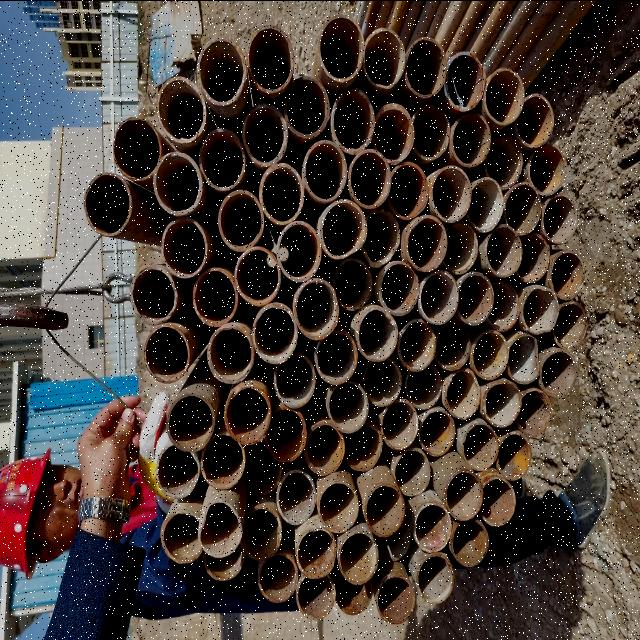pipe: (155, 75, 207, 147), (110, 114, 162, 184), (245, 24, 295, 96), (195, 37, 246, 107), (239, 100, 291, 168), (273, 218, 323, 288), (165, 388, 218, 454), (80, 172, 134, 236), (149, 152, 203, 216), (157, 216, 211, 280), (189, 261, 239, 329), (282, 73, 332, 141), (257, 160, 305, 230), (216, 188, 266, 255), (196, 126, 246, 192), (249, 303, 299, 367), (232, 244, 282, 308), (291, 276, 339, 342), (318, 14, 362, 86), (328, 88, 376, 154), (126, 264, 178, 324), (222, 382, 272, 444), (302, 139, 348, 205), (143, 326, 193, 386), (362, 26, 406, 94), (318, 198, 367, 258), (152, 444, 202, 502), (206, 323, 254, 383), (270, 352, 318, 412), (370, 100, 415, 164), (357, 208, 403, 270), (157, 511, 207, 568), (442, 51, 486, 115), (403, 36, 447, 100), (347, 148, 391, 212), (198, 498, 244, 559), (199, 432, 245, 492), (384, 160, 430, 220), (264, 404, 308, 466), (273, 466, 317, 528), (302, 419, 346, 479), (512, 91, 556, 151), (239, 504, 283, 562), (316, 477, 360, 535), (429, 165, 473, 223), (332, 258, 376, 316), (483, 66, 525, 126), (405, 213, 447, 273), (409, 102, 451, 162), (356, 307, 399, 365), (362, 484, 406, 540), (336, 530, 378, 588), (418, 268, 460, 326), (479, 378, 524, 432), (256, 552, 300, 607), (242, 440, 282, 500), (378, 258, 418, 318), (484, 132, 524, 192), (464, 174, 504, 234), (343, 416, 384, 474), (452, 270, 493, 328), (327, 379, 369, 434), (394, 316, 436, 371), (451, 112, 492, 168), (296, 528, 338, 582), (375, 572, 417, 626), (414, 552, 456, 606), (504, 180, 544, 236), (484, 222, 524, 278), (538, 348, 580, 401), (468, 328, 509, 382), (380, 397, 420, 452), (443, 468, 485, 520), (512, 386, 552, 440), (520, 284, 560, 338), (443, 368, 483, 422), (527, 143, 567, 197), (439, 221, 479, 275), (391, 446, 432, 498), (548, 248, 586, 304), (477, 477, 517, 529), (451, 516, 489, 570), (485, 280, 523, 334), (373, 516, 412, 568), (364, 355, 403, 407), (433, 319, 472, 371), (294, 574, 336, 622), (333, 570, 375, 618), (514, 230, 550, 286), (412, 502, 452, 552), (494, 430, 534, 480), (418, 410, 458, 460), (462, 419, 498, 474), (506, 331, 542, 386), (551, 300, 589, 352), (541, 192, 577, 246), (404, 362, 444, 410), (202, 548, 244, 586)
